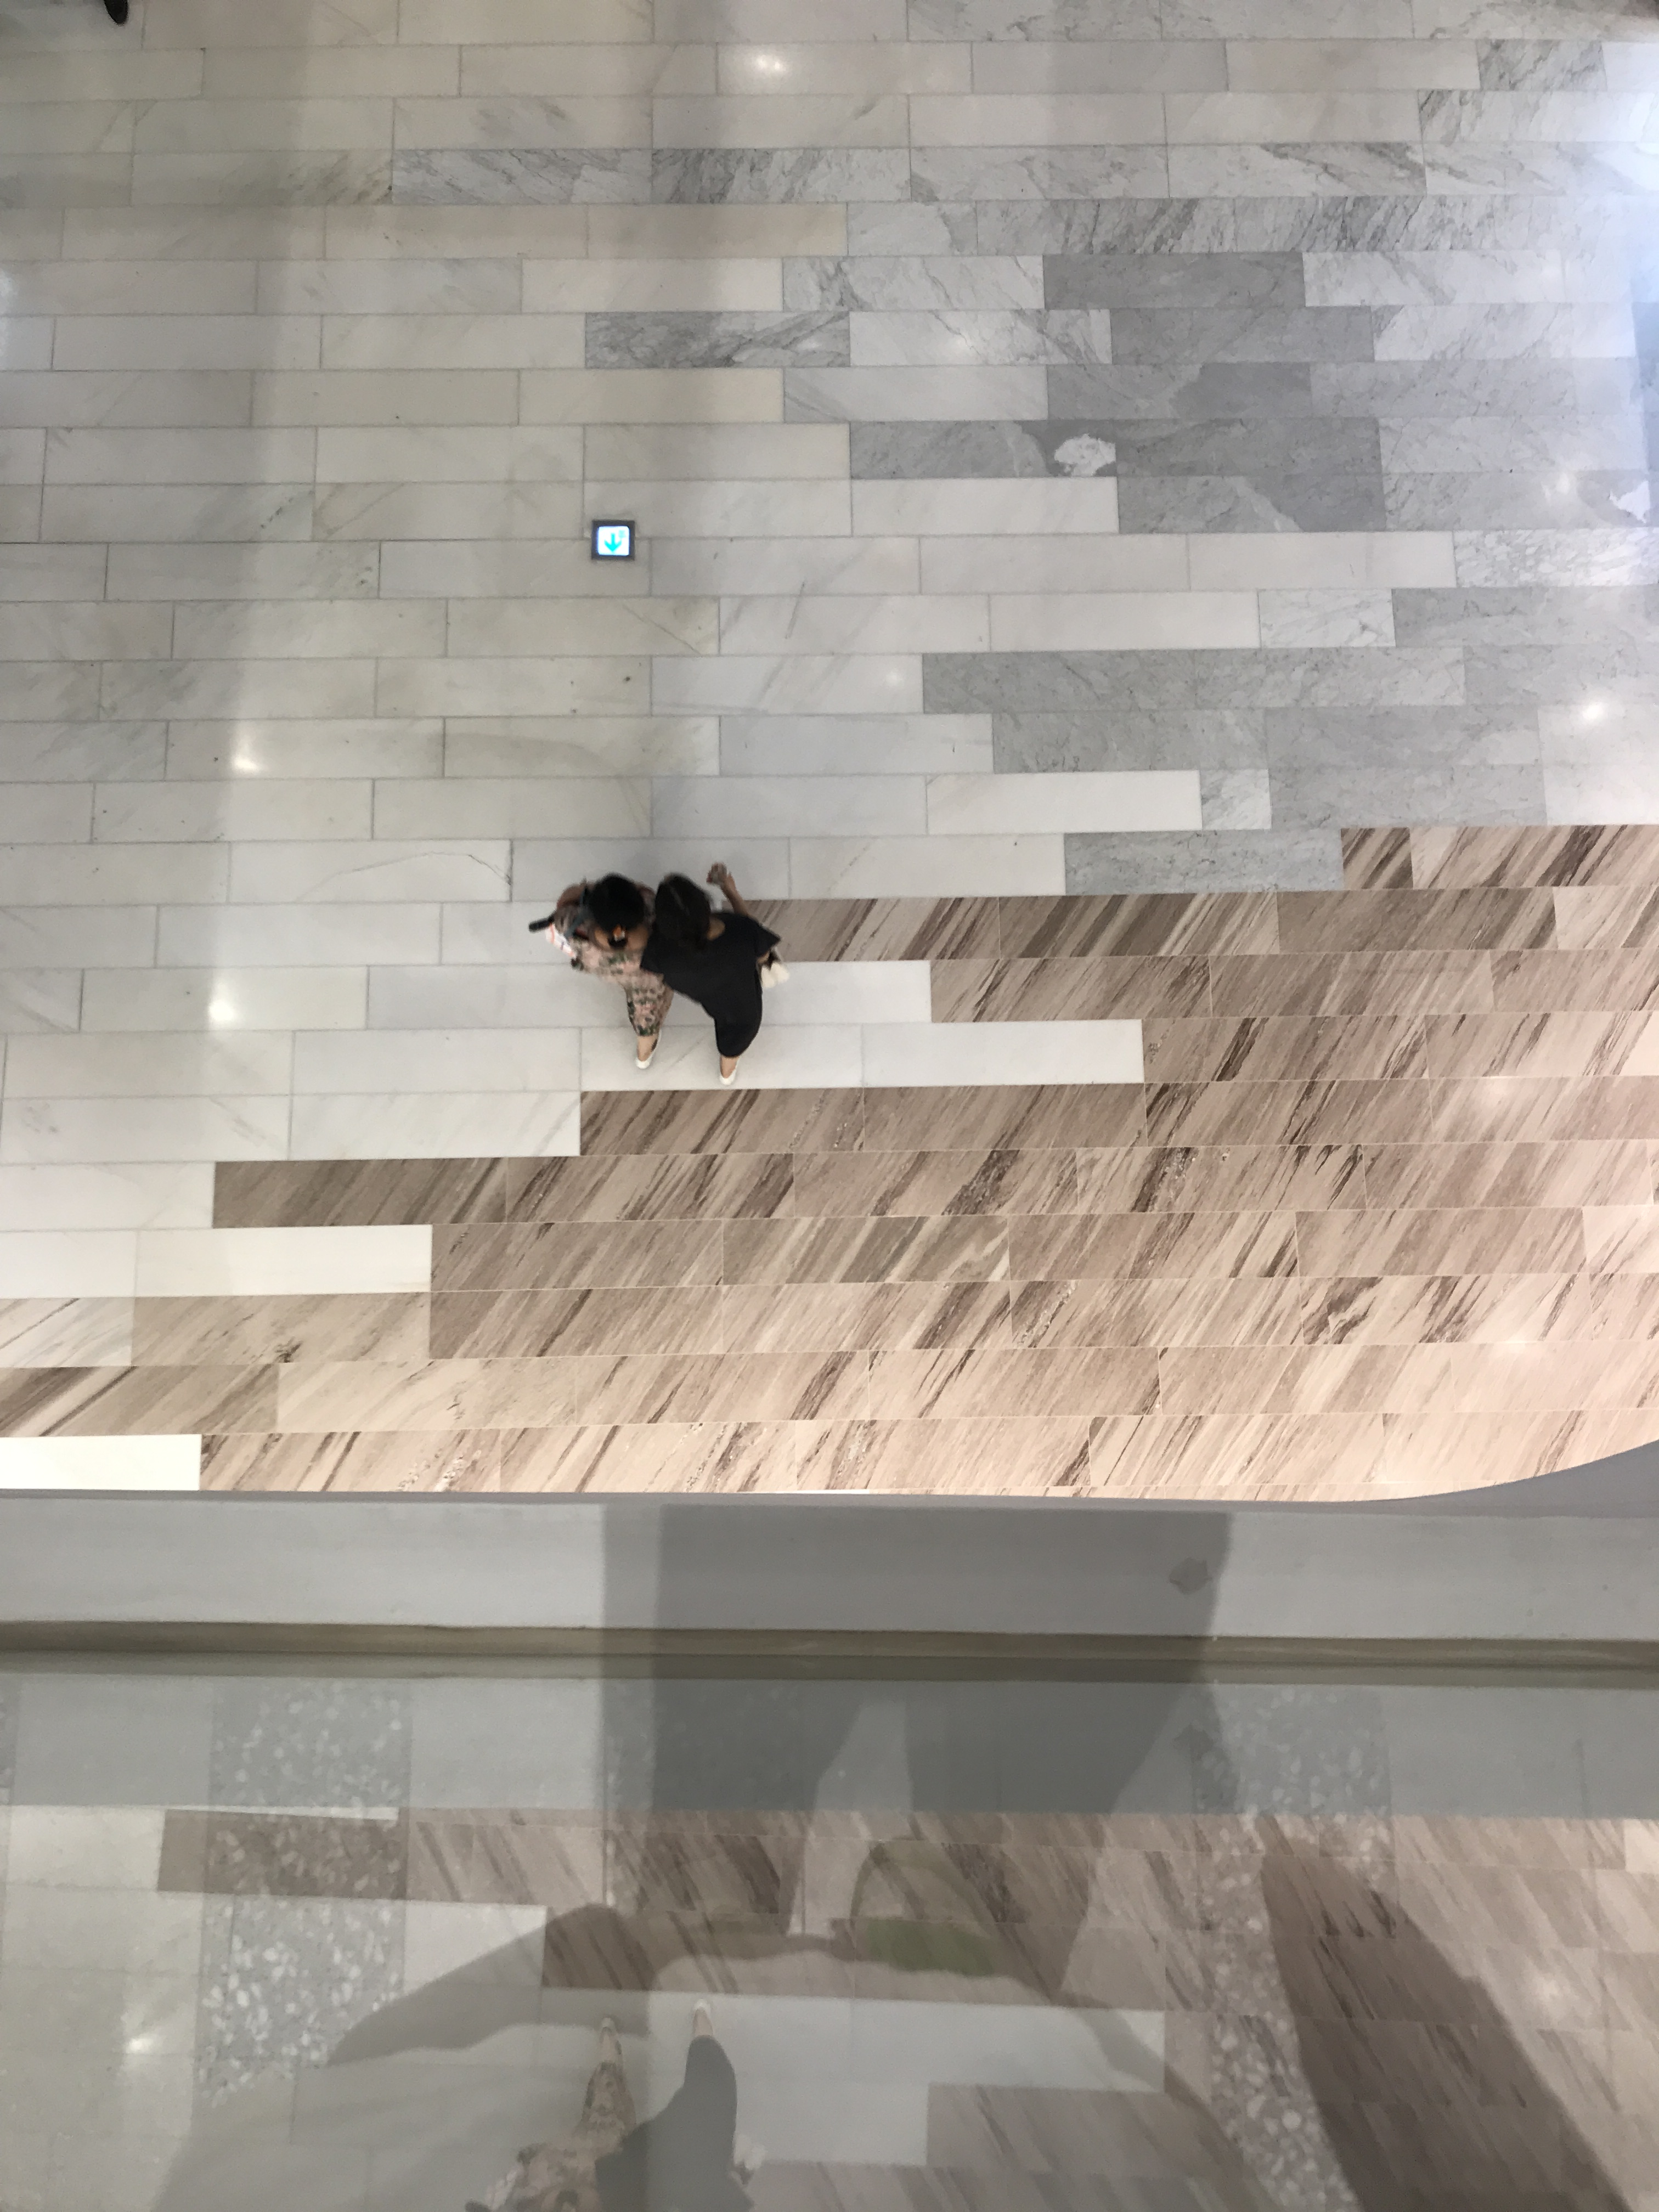person: (646, 861, 788, 1087), (534, 863, 676, 1073)
